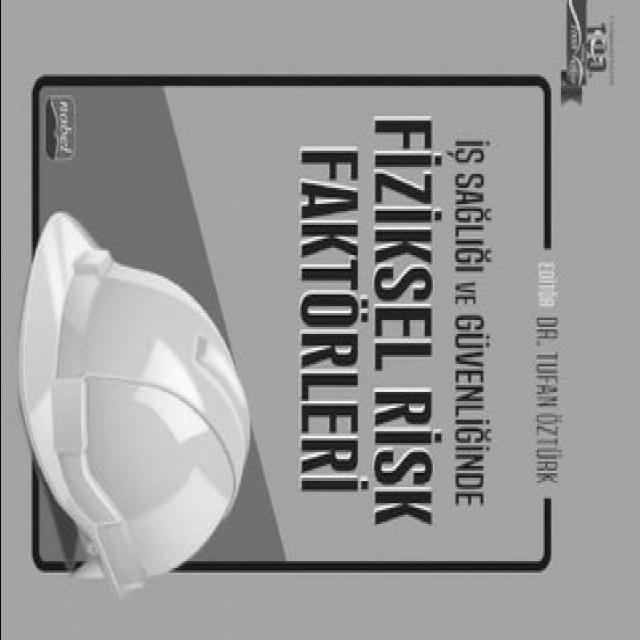safety_helmet: (16, 211, 248, 598)
